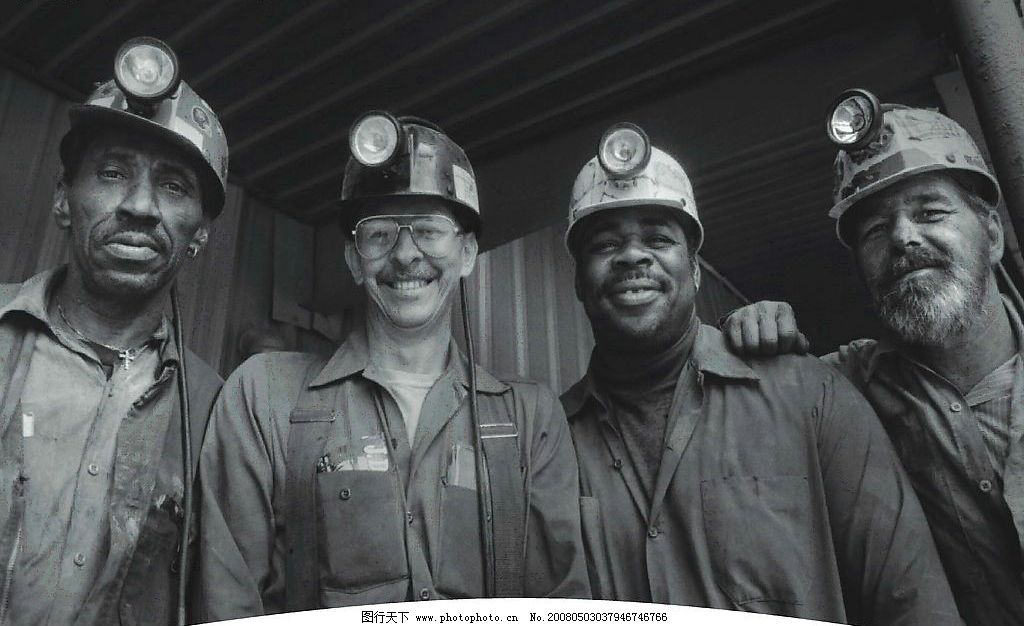helmet: (42, 42, 250, 302), (807, 90, 1008, 353), (325, 106, 527, 351), (554, 134, 728, 344)
